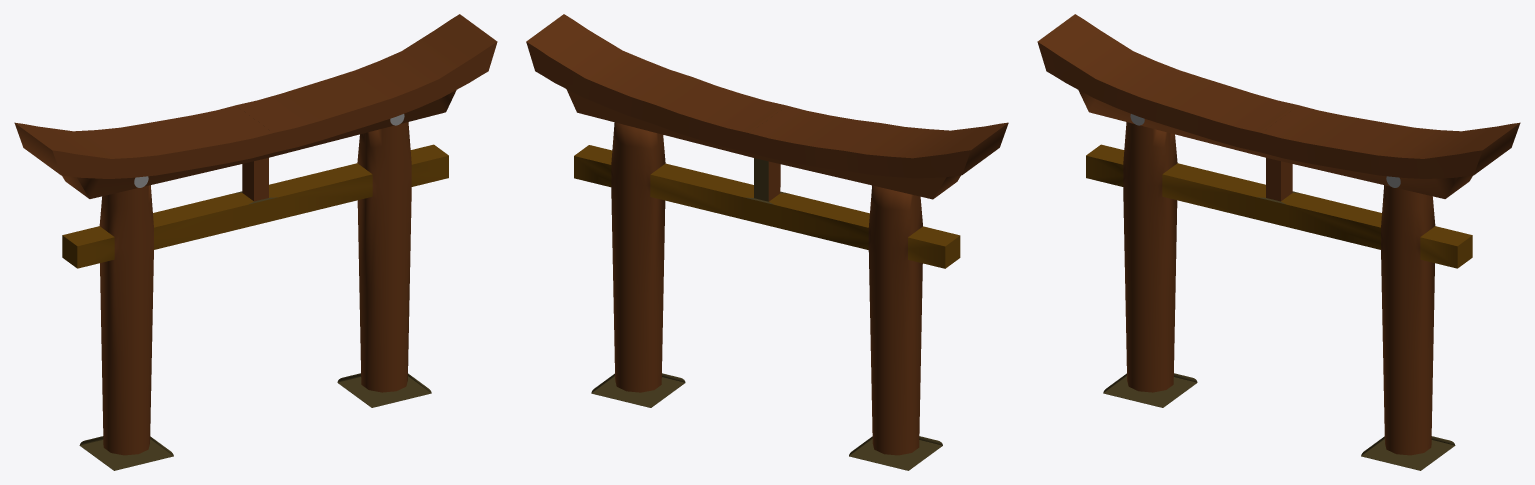
File: woodgate.glb
The picture shows the model from 3 angles, left to right: view 1: azimuth 30°, elevation 25°; view 2: azimuth 150°, elevation 25°; view 3: azimuth 330°, elevation 25°; orthographic projection.
Visible parts, largest first — view 1: Cylinder; view 2: Cylinder; view 3: Cylinder.
Boxes of the visible parts, bbox=[...] form: Cylinder: bbox=[14, 14, 497, 470]; Cylinder: bbox=[526, 14, 1008, 470]; Cylinder: bbox=[1037, 14, 1520, 470].
Bounding box in the file's own units: 21.61 × 15.66 × 3.25.
